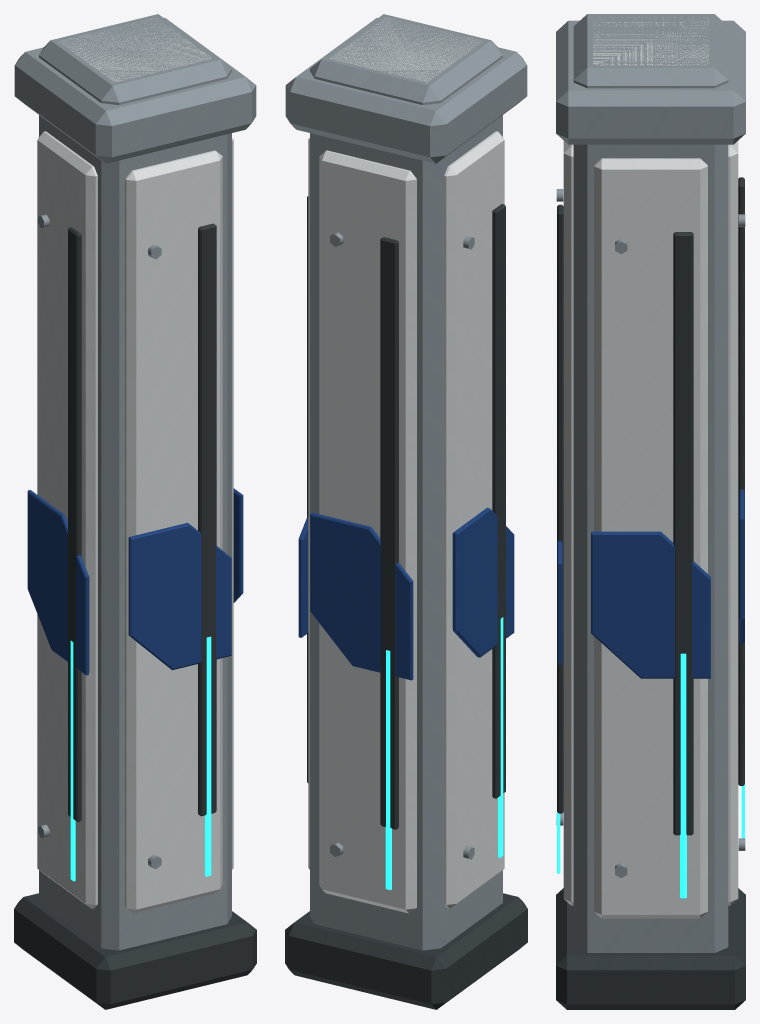
The model's file is 03_support_pillar.gltf.
3 renders of one model, left to right at view 1: azimuth 30°, elevation 25°; view 2: azimuth 150°, elevation 25°; view 3: azimuth 270°, elevation 25°, orthographic. The views are drawn at different scales.
Parts seen in each view (by area): view 1: 03_Cryo_Ceramic_Enamel, 03_Cryo_Brushed_Steel, 03_Cryo_Anodized_Frame, 03_Cryo_Cobalt_Enamel, 03_Cryo_Cyan_Practical; view 2: 03_Cryo_Ceramic_Enamel, 03_Cryo_Brushed_Steel, 03_Cryo_Anodized_Frame, 03_Cryo_Cobalt_Enamel, 03_Cryo_Cyan_Practical; view 3: 03_Cryo_Ceramic_Enamel, 03_Cryo_Brushed_Steel, 03_Cryo_Anodized_Frame, 03_Cryo_Cobalt_Enamel, 03_Cryo_Cyan_Practical.
Part boxes in pixels (x1,y1,x2,y2): 03_Cryo_Ceramic_Enamel: (37, 18, 233, 913); 03_Cryo_Brushed_Steel: (14, 14, 256, 950); 03_Cryo_Anodized_Frame: (14, 223, 256, 1009); 03_Cryo_Cobalt_Enamel: (27, 488, 243, 675); 03_Cryo_Cyan_Practical: (70, 636, 211, 881); 03_Cryo_Ceramic_Enamel: (308, 18, 504, 913); 03_Cryo_Brushed_Steel: (285, 14, 527, 950); 03_Cryo_Anodized_Frame: (285, 196, 527, 1009); 03_Cryo_Cobalt_Enamel: (298, 507, 514, 680); 03_Cryo_Cyan_Practical: (385, 617, 503, 890); 03_Cryo_Ceramic_Enamel: (563, 17, 738, 918); 03_Cryo_Brushed_Steel: (556, 14, 745, 952); 03_Cryo_Anodized_Frame: (556, 177, 745, 1009); 03_Cryo_Cobalt_Enamel: (557, 489, 744, 678); 03_Cryo_Cyan_Practical: (557, 653, 744, 898).
Size of the model in its own units: 0.7 by 3.8 by 0.7.
6 materials, 5 textured.
